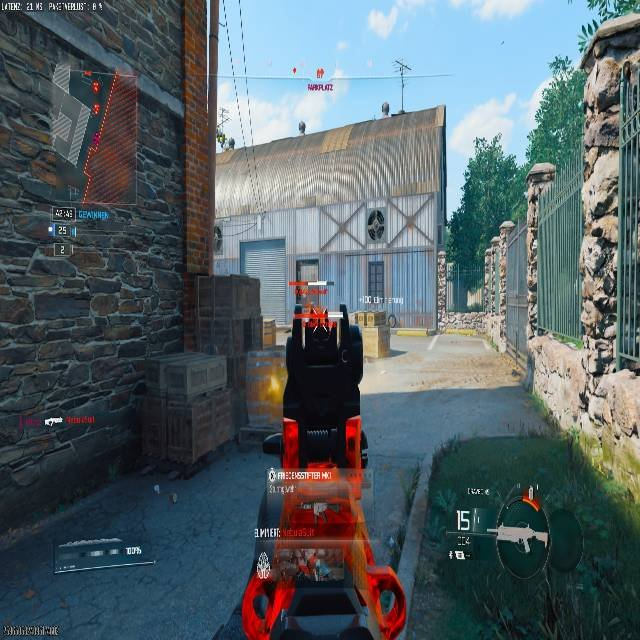player: (297, 120, 306, 134)
